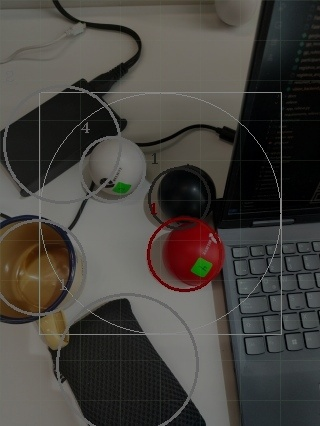Pelota blanca: (0, 214, 86, 325), (79, 134, 147, 200), (212, 0, 262, 27)
Pelota negra: (143, 164, 217, 222)
Pelota roja: (145, 214, 225, 294)
